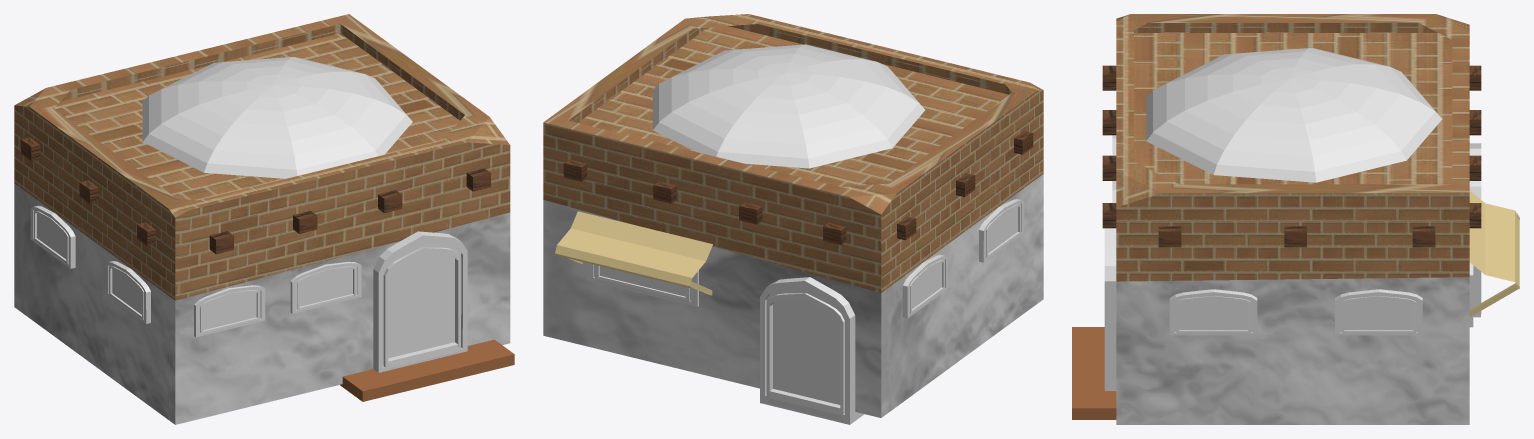
File: woonhuisje.fbx
3 views of the same model, side by side, from view 1: azimuth 30°, elevation 25°; view 2: azimuth 150°, elevation 25°; view 3: azimuth 270°, elevation 25° (orthographic). The views are drawn at different scales.
Parts seen in each view (by area): view 1: Cube.017, Sphere, backup door.001, Cube.018, backup window.003, backup window.002, backup window.007, backup window.006, Cube.022, Cube.019, Cube.021, Cube.020; view 2: Cube.017, Sphere, backup door.002, Plane, backup window.008, backup window.007, backup window.006; view 3: Cube.017, Sphere, backup window.005, backup window.004, Plane, Cube.018, backup door.001, backup door.002, Cube.026, Cube.028, Cube.027.
Part boxes in pixels (bbox=[...]): Cube.017: bbox=[14, 14, 510, 424]; Sphere: bbox=[142, 56, 412, 178]; backup door.001: bbox=[373, 231, 467, 372]; Cube.018: bbox=[340, 339, 514, 401]; backup window.003: bbox=[194, 285, 265, 337]; backup window.002: bbox=[290, 261, 361, 313]; backup window.007: bbox=[30, 205, 75, 268]; backup window.006: bbox=[106, 261, 150, 323]; Cube.022: bbox=[209, 231, 233, 254]; Cube.019: bbox=[466, 168, 490, 191]; Cube.021: bbox=[293, 211, 317, 233]; Cube.020: bbox=[378, 190, 402, 212]; Cube.017: bbox=[543, 14, 1043, 417]; Sphere: bbox=[653, 44, 924, 168]; backup door.002: bbox=[760, 277, 864, 424]; Plane: bbox=[555, 211, 712, 295]; backup window.008: bbox=[587, 263, 698, 306]; backup window.007: bbox=[902, 254, 947, 318]; backup window.006: bbox=[979, 199, 1024, 262]; Cube.017: bbox=[1116, 14, 1469, 424]; Sphere: bbox=[1146, 48, 1442, 182]; backup window.005: bbox=[1169, 289, 1257, 335]; backup window.004: bbox=[1335, 289, 1422, 335]; Plane: bbox=[1469, 190, 1519, 316]; Cube.018: bbox=[1072, 327, 1116, 419]; backup door.001: bbox=[1104, 228, 1116, 390]; backup door.002: bbox=[1469, 143, 1481, 317]; Cube.026: bbox=[1158, 226, 1181, 247]; Cube.028: bbox=[1412, 226, 1435, 247]; Cube.027: bbox=[1284, 226, 1306, 247].
Size of the model in its own units: 954 by 639 by 955.
4 materials, 2 textured.
